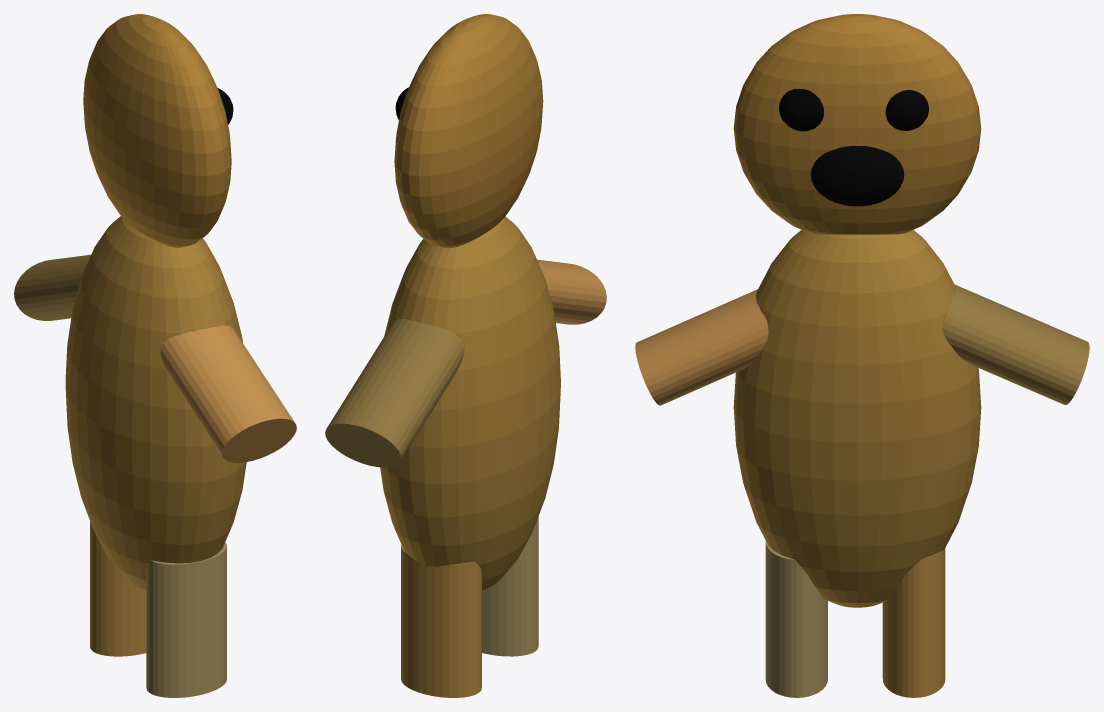
Rendered from BearStatue.fbx.
3 views of the same model, side by side, from view 1: azimuth 30°, elevation 25°; view 2: azimuth 150°, elevation 25°; view 3: azimuth 270°, elevation 25° (orthographic). The views are drawn at different scales.
Parts seen in each view (by area): view 1: Sphere.001, Sphere, Cylinder.003, Cylinder, Cylinder.001, Cylinder.002; view 2: Sphere.001, Sphere, Cylinder.002, Cylinder.001, Cylinder, Cylinder.003; view 3: Sphere.001, Sphere, Cylinder.002, Cylinder.003, Cylinder, Cylinder.001, Sphere.002, Sphere.003, Sphere.004.
Part boxes in pixels (left/top/right/bottom): Sphere.001: left=65, top=216, right=246, bottom=591; Sphere: left=83, top=14, right=231, bottom=247; Cylinder.003: left=160, top=325, right=296, bottom=462; Cylinder: left=146, top=542, right=226, bottom=697; Cylinder.001: left=90, top=521, right=146, bottom=656; Cylinder.002: left=14, top=254, right=90, bottom=320; Sphere.001: left=380, top=216, right=560, bottom=591; Sphere: left=394, top=14, right=543, bottom=248; Cylinder.002: left=325, top=318, right=464, bottom=467; Cylinder.001: left=401, top=544, right=481, bottom=697; Cylinder: left=482, top=516, right=538, bottom=656; Cylinder.003: left=537, top=259, right=606, bottom=324; Sphere.001: left=733, top=230, right=981, bottom=607; Sphere: left=733, top=14, right=981, bottom=234; Cylinder.002: left=942, top=284, right=1089, bottom=404; Cylinder.003: left=635, top=289, right=768, bottom=405; Cylinder: left=765, top=541, right=827, bottom=697; Cylinder.001: left=882, top=548, right=945, bottom=697; Sphere.002: left=810, top=146, right=904, bottom=206; Sphere.003: left=779, top=88, right=824, bottom=131; Sphere.004: left=885, top=90, right=928, bottom=130.
Size of the model in its own units: 1.36 by 5.91 by 3.67.
